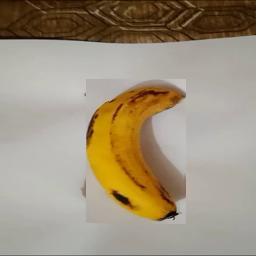Banana Semifresh: (86, 80, 186, 225)
